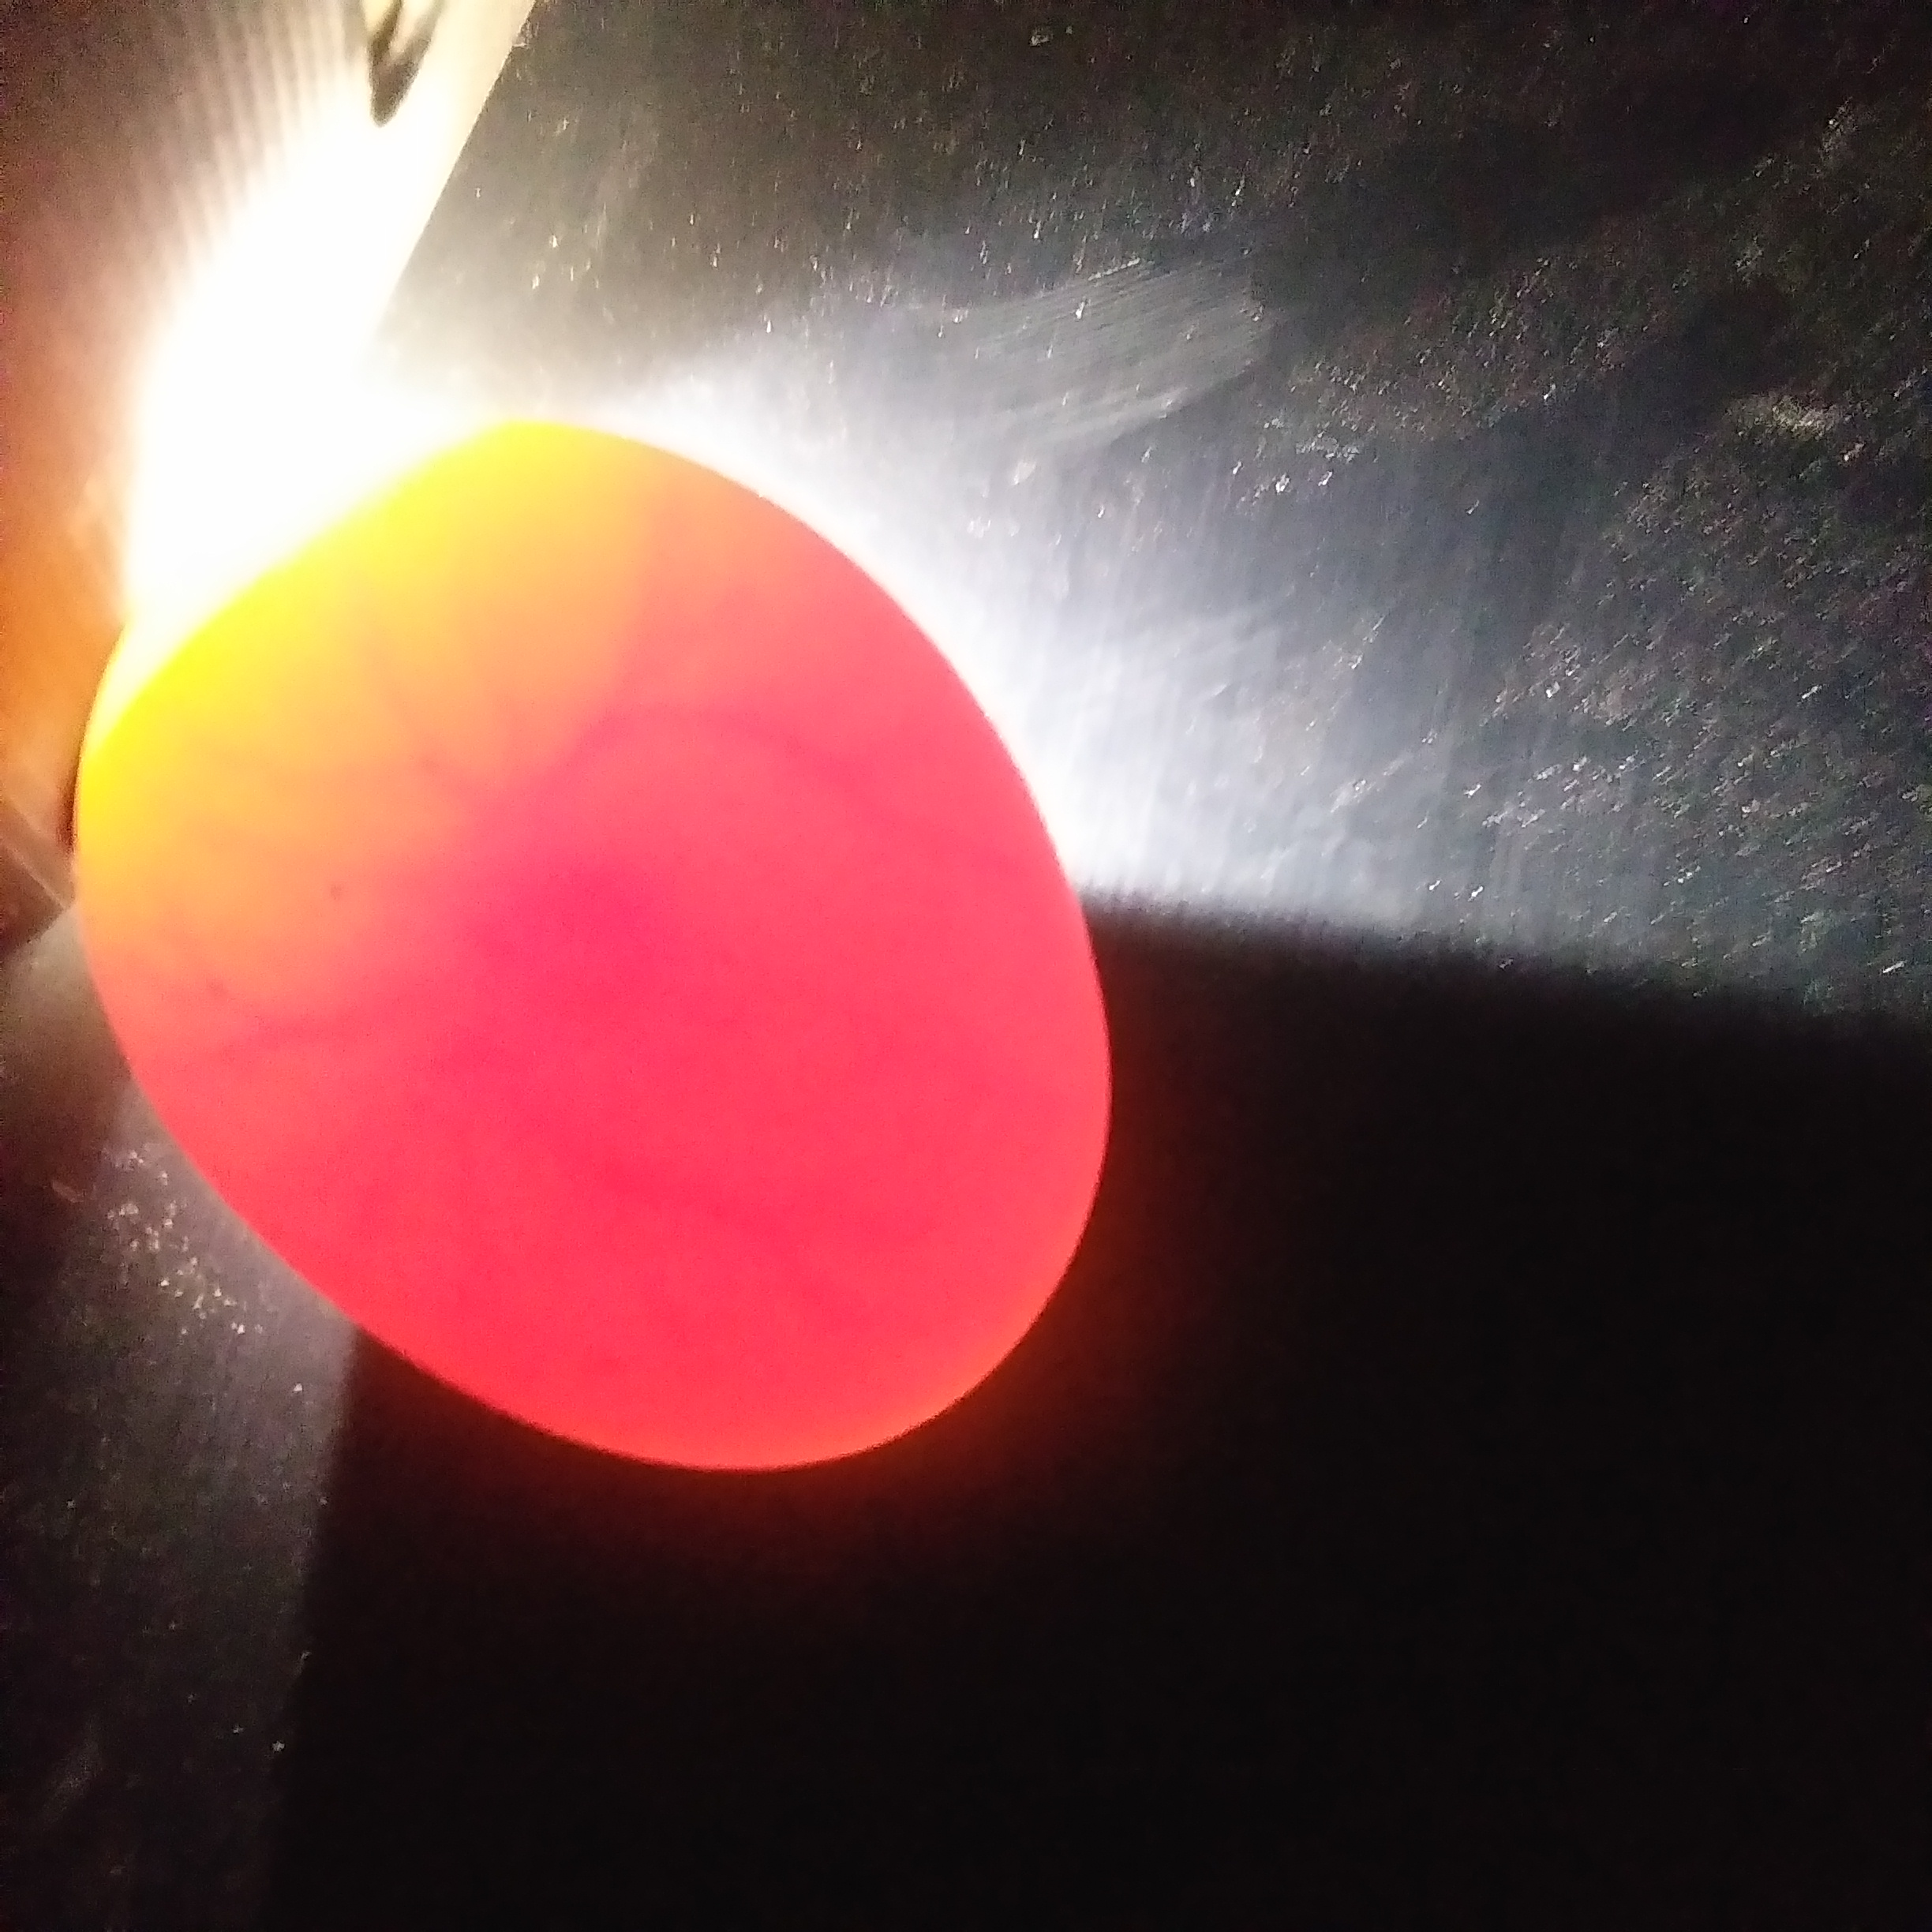bloodcell: (364, 1090, 984, 1352), (533, 513, 839, 796)
embryo: (428, 826, 665, 1044)
